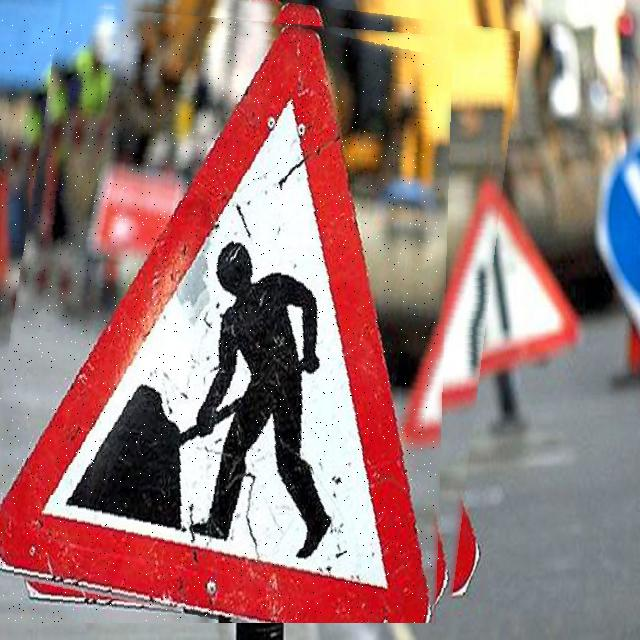roadwork: (0, 19, 439, 623)
